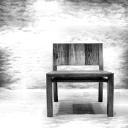chair_success: (36, 37, 122, 121)
